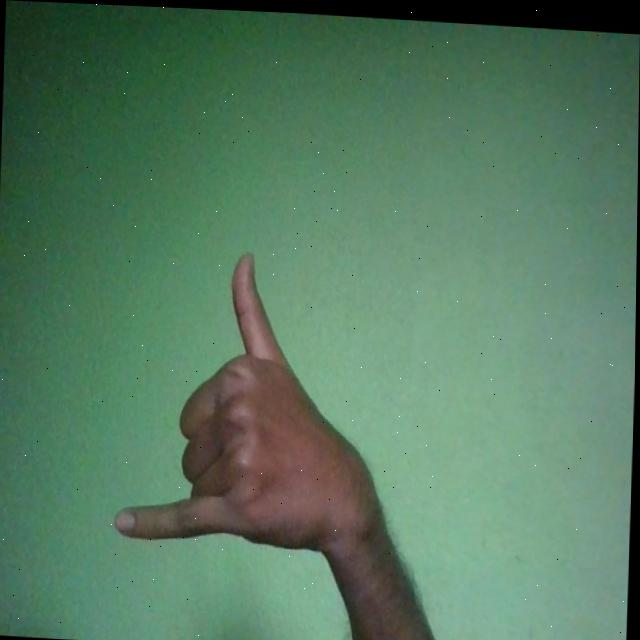Call Me: (114, 241, 397, 552)
